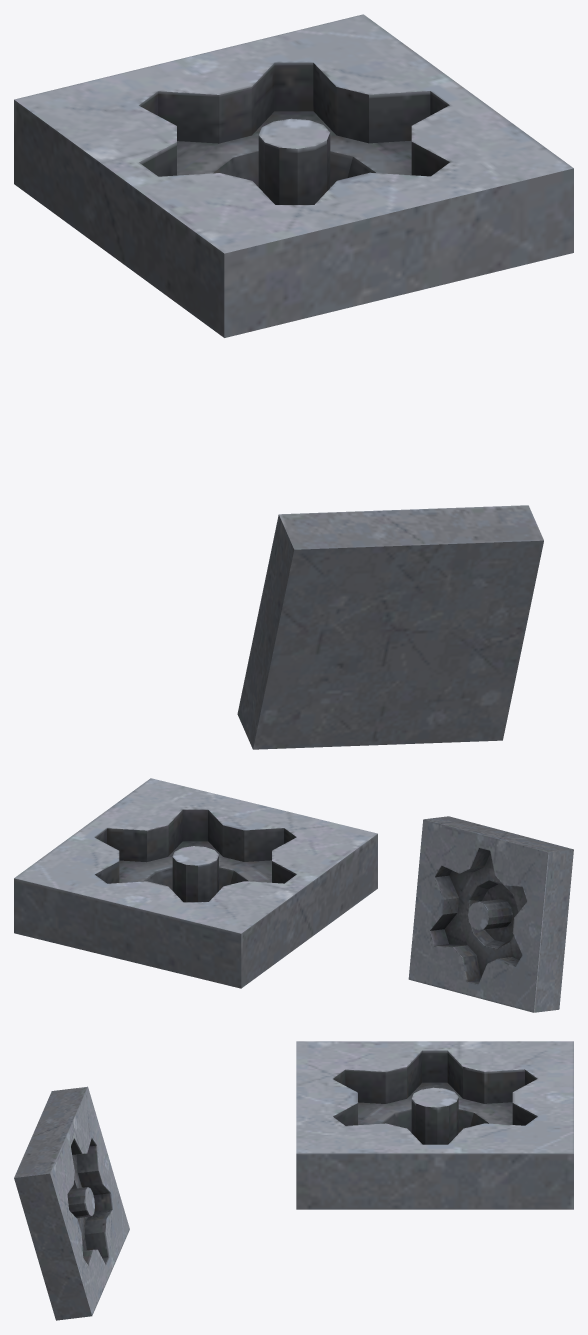
File: GearMold.glb
3 views of the same model, one above another, from view 1: azimuth 30°, elevation 25°; view 2: azimuth 150°, elevation 25°; view 3: azimuth 270°, elevation 25° (orthographic). The views are drawn at different scales.
Parts seen in each view (by area): view 1: gear-cast (×2); view 2: gear-cast (×2); view 3: gear-cast (×2).
Part boxes in pixels (x1,y1,x2,y2): gear-cast (×2): (14,14,573,749); gear-cast (×2): (14,778,573,1012); gear-cast (×2): (14,1041,573,1320).
Size of the model in its own units: 0.7403 by 0.5616 by 1.15.
1 material, 1 textured.
